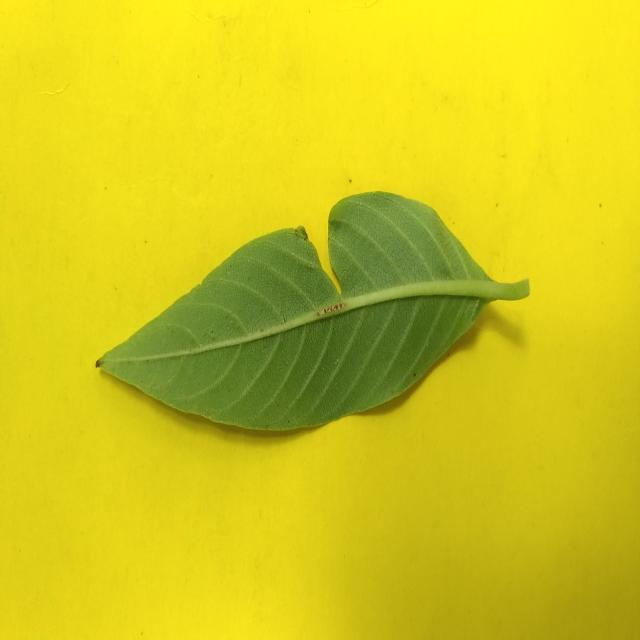seethaashoka: (98, 193, 529, 431)
